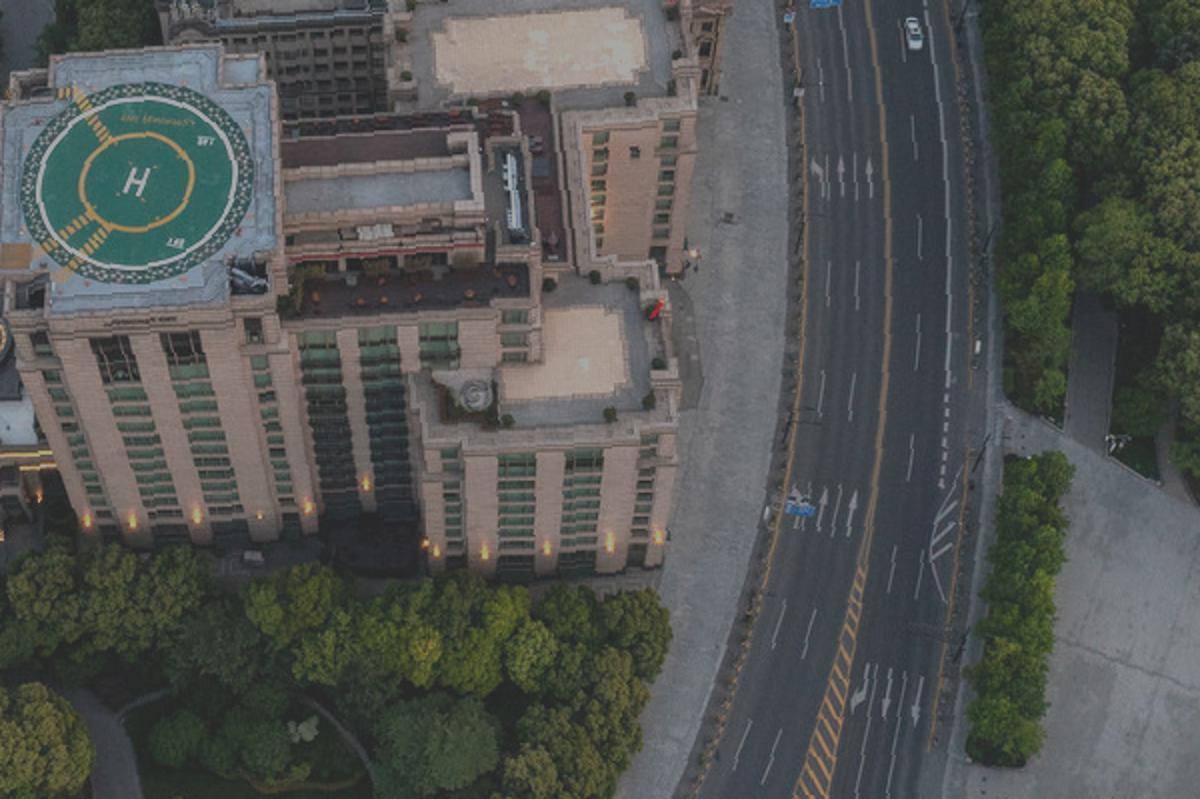Apron: (76, 137, 206, 238)
